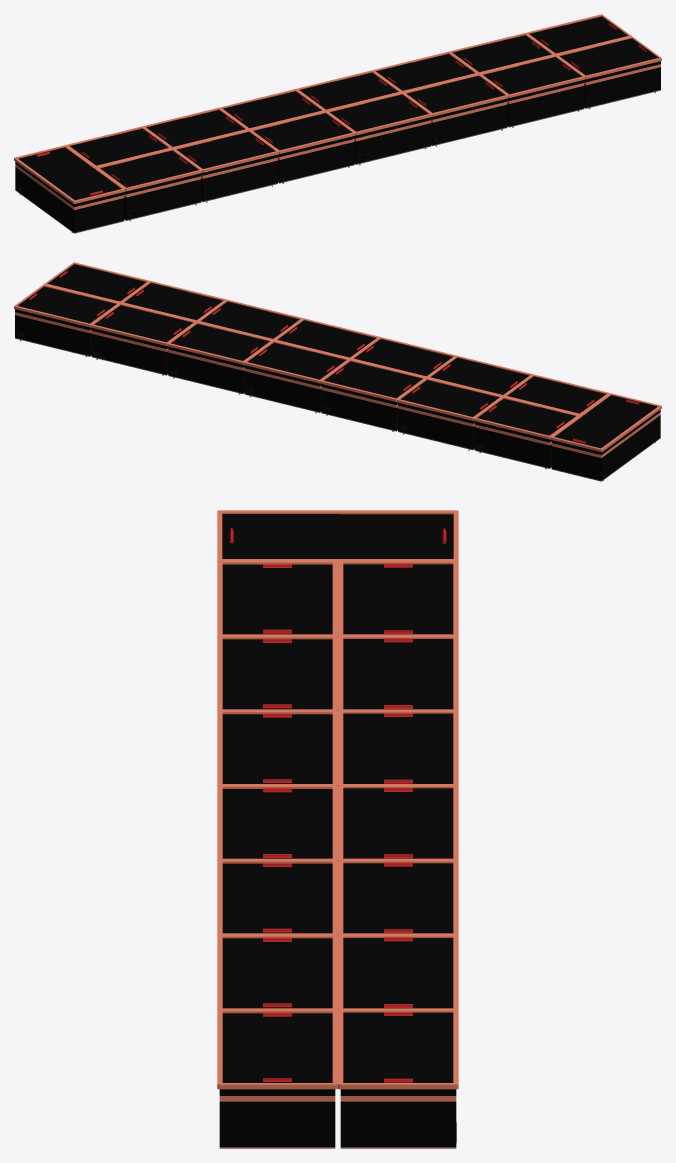
Rendered from uploads_files_2792318_躺冰柜.fbx.
3 renders of one model, top to bottom at view 1: azimuth 30°, elevation 25°; view 2: azimuth 150°, elevation 25°; view 3: azimuth 270°, elevation 25°, orthographic. The views are drawn at different scales.
Parts seen in each view (by area): view 1: 躺柜; view 2: 躺柜; view 3: 躺柜.
Boxes of the visible parts, box(x1,y1,x2,y2) form: 躺柜: box(14, 14, 661, 233); 躺柜: box(14, 262, 661, 481); 躺柜: box(217, 510, 458, 1148).
Bounding box in the file's own units: 47.01 × 8.36 × 2.72.
